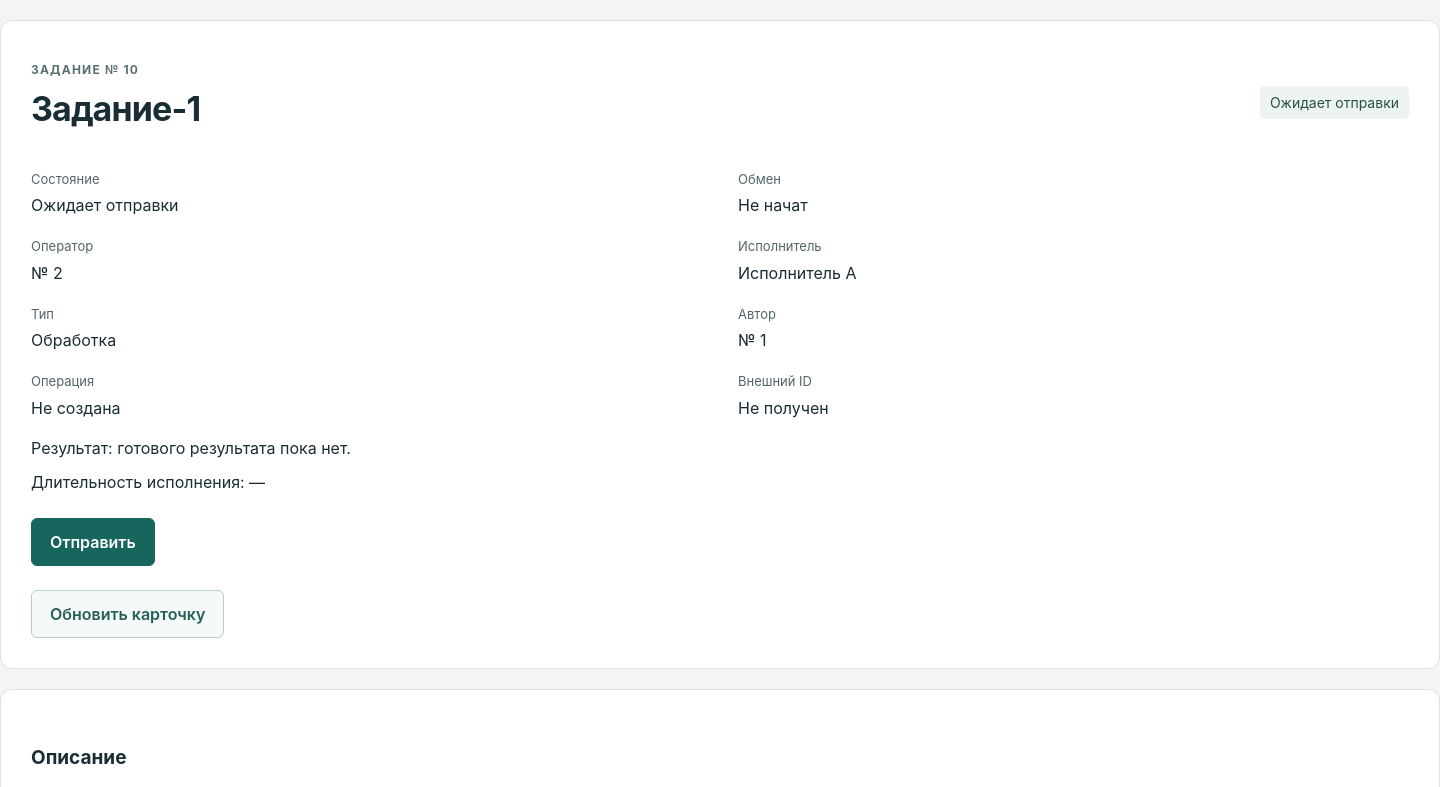
Scenario: Карточка и серверные действия › F-T007: безопасный повтор использует прежнее тело и ключ даже после обновления сервера
This screenshot has width=1440, height=787.
Later steps or results of the test are not shown.
Click the button "Отправить".
click(93, 542)  # box 31,518 -> 155,566
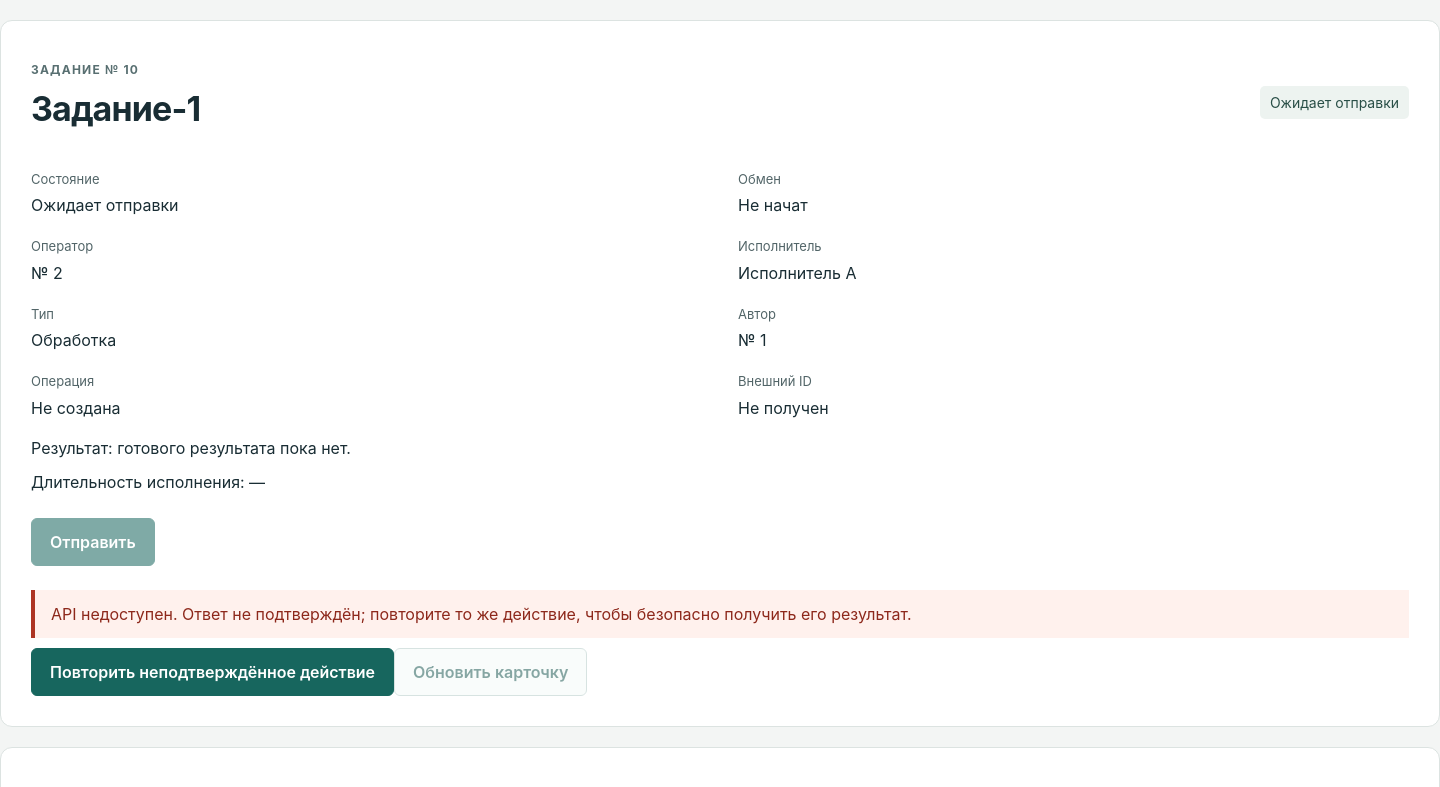
Expected: the message is shown, 31,590 -> 1409,638
